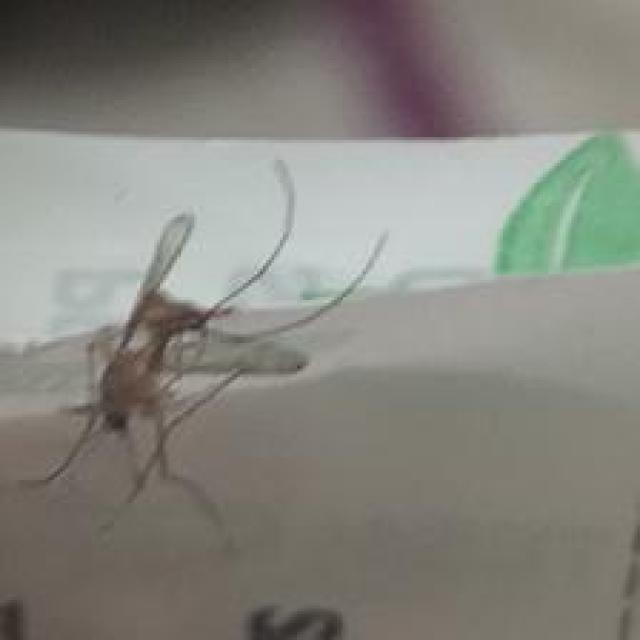Culex: (16, 156, 390, 544)
